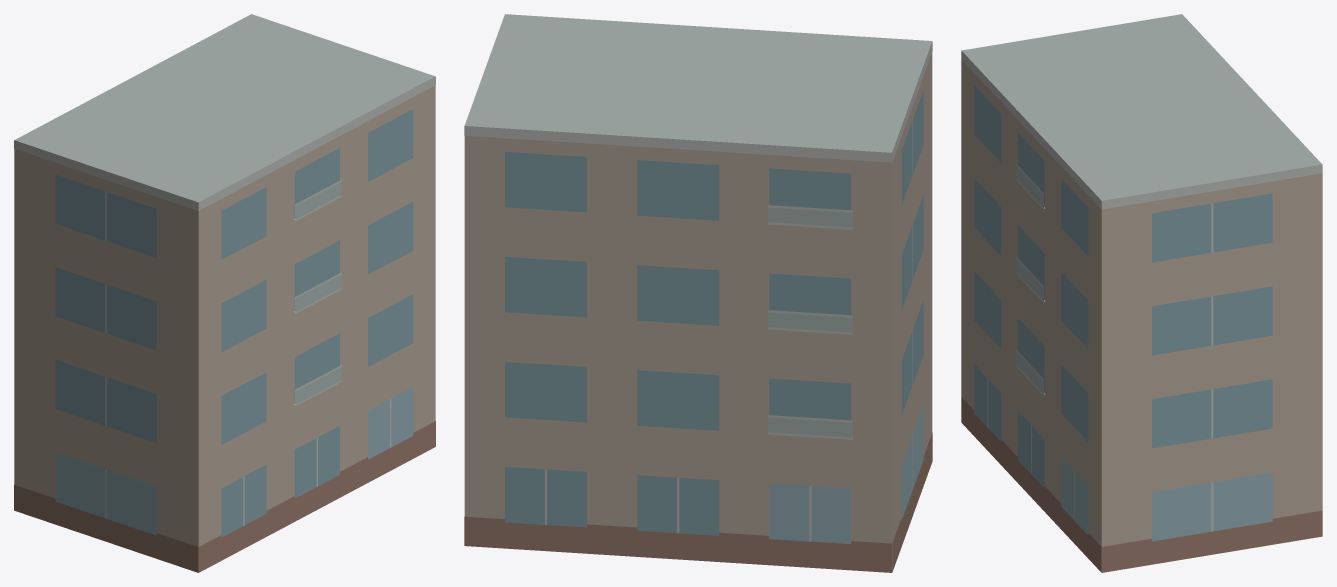
Rendered from survey-upis-32575873.glb.
The picture shows the model from 3 angles, left to right: view 1: azimuth 30°, elevation 25°; view 2: azimuth 150°, elevation 25°; view 3: azimuth 270°, elevation 25°; orthographic projection. The views are drawn at different scales.
Visible parts, largest first — view 1: survey-upis-32575873.tmp; view 2: survey-upis-32575873.tmp; view 3: survey-upis-32575873.tmp.
Boxes of the visible parts, x1,y1,x2,y2 form: survey-upis-32575873.tmp: (14,14,435,572); survey-upis-32575873.tmp: (464,14,932,572); survey-upis-32575873.tmp: (961,14,1322,572).
Size of the model in its own units: 11.22 by 10.4 by 9.16.
